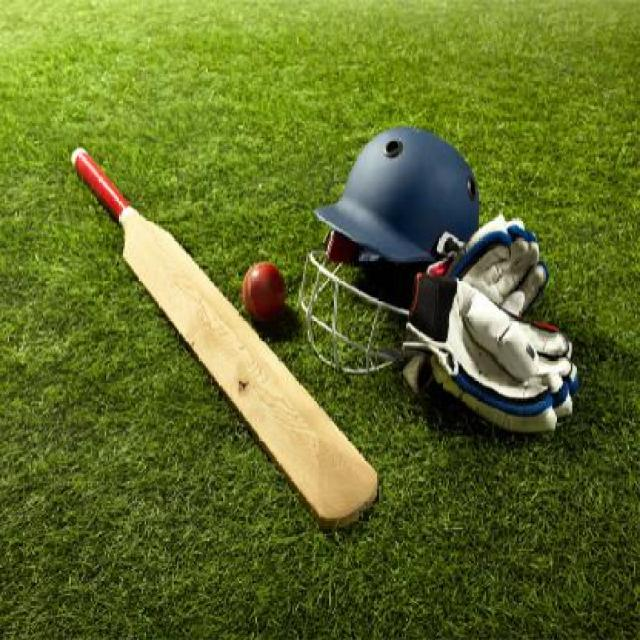ball: (220, 250, 296, 331)
